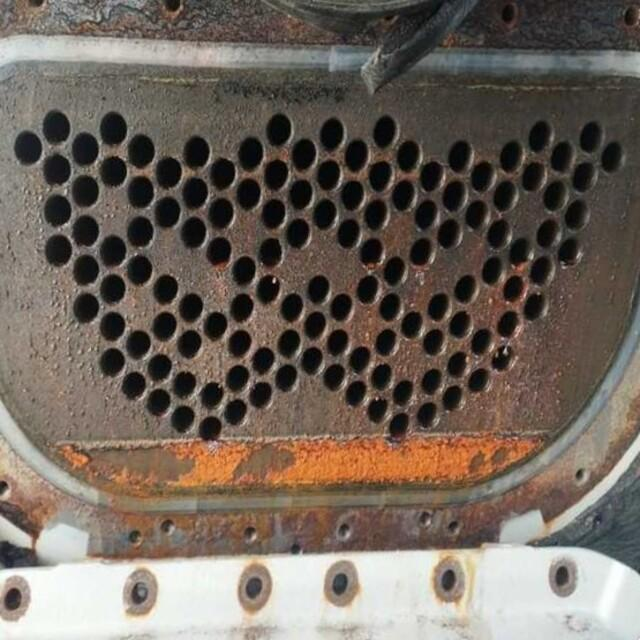Hole: (8, 130, 44, 166), (40, 108, 70, 146), (99, 110, 128, 144), (70, 132, 100, 164), (364, 159, 394, 191), (182, 136, 211, 169), (98, 157, 128, 188), (70, 255, 100, 286), (179, 178, 210, 208), (444, 139, 474, 170), (371, 328, 402, 358), (234, 136, 266, 165), (208, 156, 236, 189), (172, 329, 206, 356), (125, 216, 155, 246), (150, 274, 180, 304), (395, 140, 424, 171), (264, 112, 292, 144), (291, 138, 319, 170), (372, 115, 400, 147), (126, 176, 156, 205), (206, 196, 235, 226), (71, 292, 101, 321), (176, 293, 206, 322), (317, 118, 346, 148), (497, 142, 526, 172), (43, 154, 71, 185), (71, 173, 99, 204), (43, 236, 71, 267), (72, 215, 100, 246), (152, 198, 183, 226), (232, 177, 263, 205), (362, 199, 390, 230), (413, 403, 444, 431), (467, 368, 498, 396), (178, 218, 208, 246), (304, 273, 332, 303), (464, 200, 492, 230), (424, 291, 452, 321), (445, 310, 473, 340), (44, 195, 71, 226), (391, 178, 417, 210), (154, 158, 182, 187), (99, 235, 128, 263), (125, 255, 154, 283), (99, 274, 128, 302), (98, 312, 127, 340), (124, 329, 152, 358), (256, 236, 284, 265), (204, 236, 233, 264), (564, 199, 592, 228), (383, 411, 412, 439), (128, 135, 155, 165), (438, 386, 468, 413), (442, 180, 467, 212), (528, 119, 553, 151), (398, 311, 423, 343), (258, 198, 286, 226), (201, 311, 229, 339), (572, 163, 600, 191), (263, 159, 290, 188), (121, 370, 147, 400), (338, 180, 364, 210), (520, 292, 550, 318), (418, 366, 444, 396), (150, 311, 178, 338), (315, 160, 342, 188), (299, 348, 327, 375), (437, 220, 464, 248), (496, 310, 524, 337), (362, 394, 388, 423), (289, 178, 314, 208), (345, 140, 370, 170), (336, 217, 361, 247), (256, 274, 281, 304), (472, 161, 496, 192), (312, 200, 339, 227), (98, 348, 126, 374), (228, 295, 256, 321), (170, 370, 198, 396), (144, 389, 172, 415), (170, 403, 196, 431), (408, 236, 434, 264), (529, 255, 555, 283), (368, 363, 396, 389), (302, 309, 327, 338), (550, 141, 575, 170), (421, 328, 446, 357), (275, 328, 299, 358), (542, 181, 566, 211), (224, 366, 251, 392), (285, 218, 312, 244), (520, 164, 547, 190), (491, 182, 518, 208), (558, 236, 584, 263), (480, 255, 506, 282), (280, 292, 305, 320), (330, 292, 355, 320), (419, 160, 444, 188), (486, 219, 511, 247), (600, 142, 624, 171), (199, 381, 225, 407), (534, 221, 560, 247), (468, 328, 494, 354), (233, 255, 258, 282), (356, 274, 381, 301), (414, 200, 438, 228), (319, 364, 347, 388), (580, 122, 603, 151), (359, 238, 384, 264), (224, 398, 248, 425), (197, 416, 224, 440), (452, 276, 479, 300), (502, 274, 525, 302), (250, 346, 274, 372), (274, 363, 298, 389), (383, 257, 407, 283), (390, 380, 414, 406), (488, 348, 514, 372), (228, 330, 252, 355), (326, 330, 350, 355), (445, 351, 469, 376), (348, 345, 371, 371), (506, 240, 533, 262), (148, 354, 171, 379), (378, 293, 401, 318), (248, 382, 274, 404), (342, 381, 365, 404)
